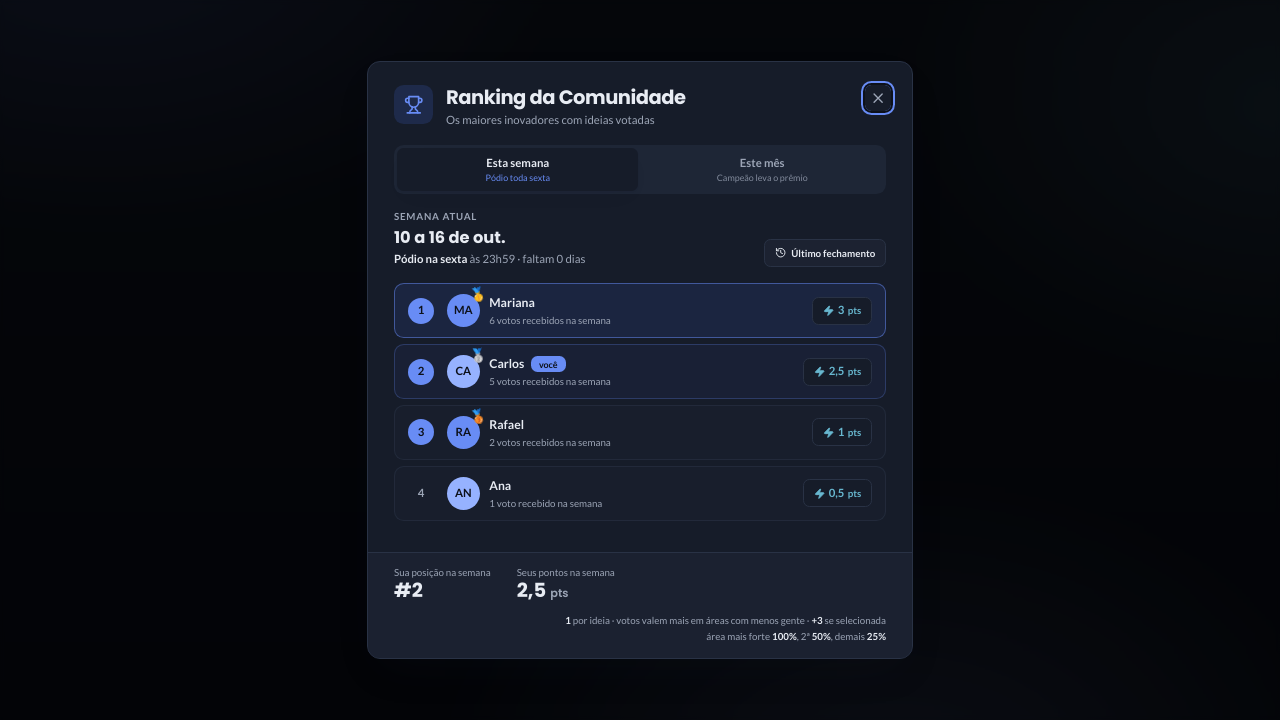
RankingDialog › nos outros dias mostra a lista e abre o último fechamento gravado
Expected: the text "Pódio na sexta" is shown, [394,252,467,265]
Expected: the picture named "Medalha de 1º lugar" is shown, [469,286,487,302]
Click the button "Último fechamento" at (825, 253), box [764,239,886,267]
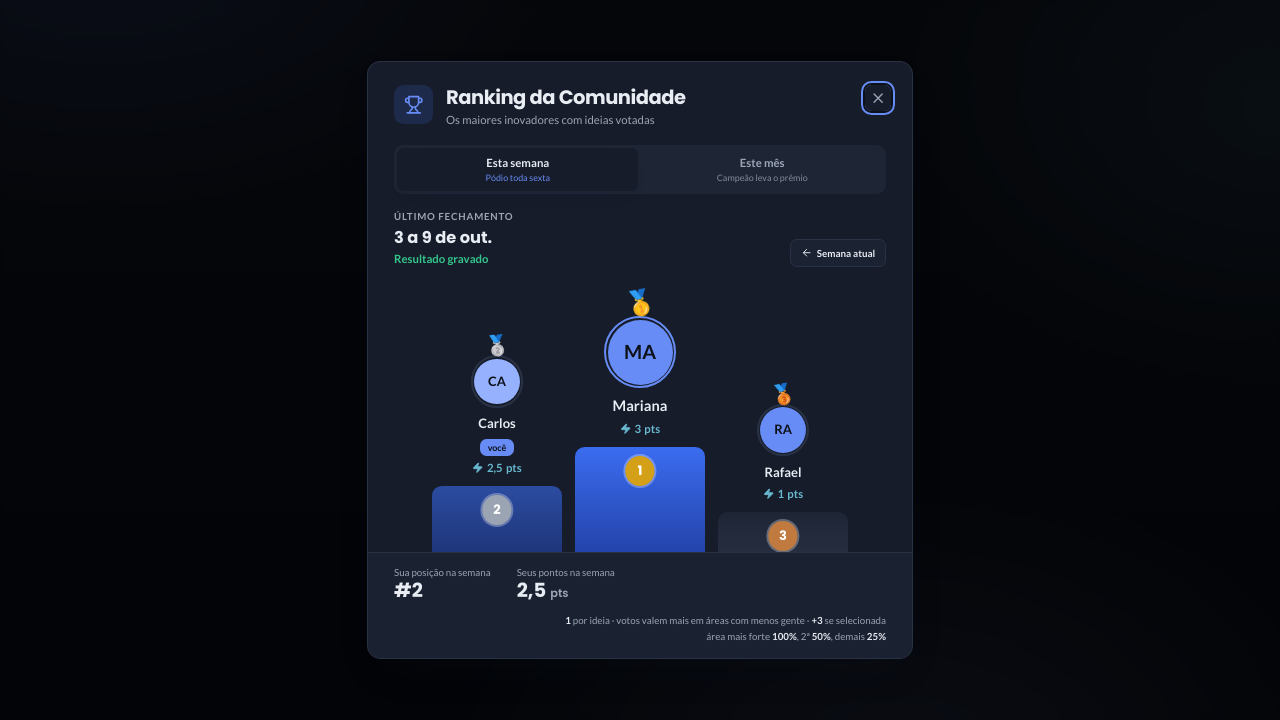
Expected: the text "Resultado gravado" is shown, [394,252,488,265]
Expected: the heading "3 a 9 de out." is shown, [394,226,492,248]
